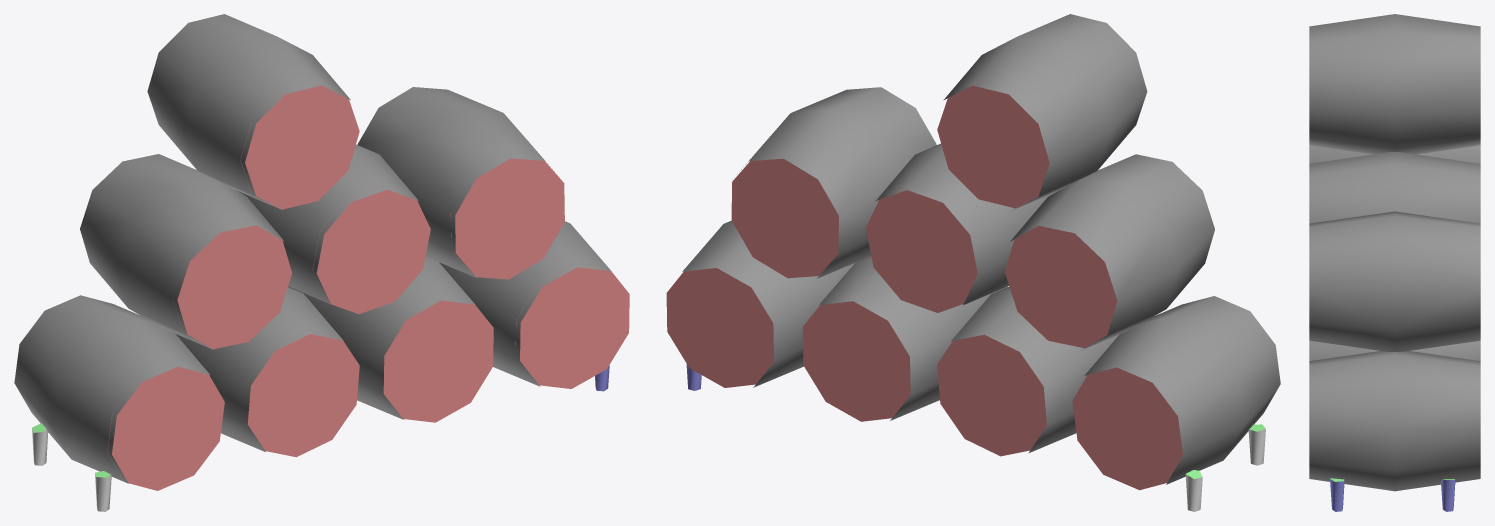
Rendered from PriMT_port_drum02.gltf.
3 renders of one model, left to right at view 1: azimuth 30°, elevation 25°; view 2: azimuth 150°, elevation 25°; view 3: azimuth 270°, elevation 25°, orthographic. The views are drawn at different scales.
Visible parts, largest first — view 1: PriMT_port_drum02; view 2: PriMT_port_drum02; view 3: PriMT_port_drum02.
Part boxes in pixels (box(x1,y1,x2,y2)): PriMT_port_drum02: box(14, 14, 629, 511); PriMT_port_drum02: box(666, 14, 1280, 511); PriMT_port_drum02: box(1309, 14, 1480, 511).
Size of the model in its own units: 0.7698 by 0.5399 by 0.2386.
